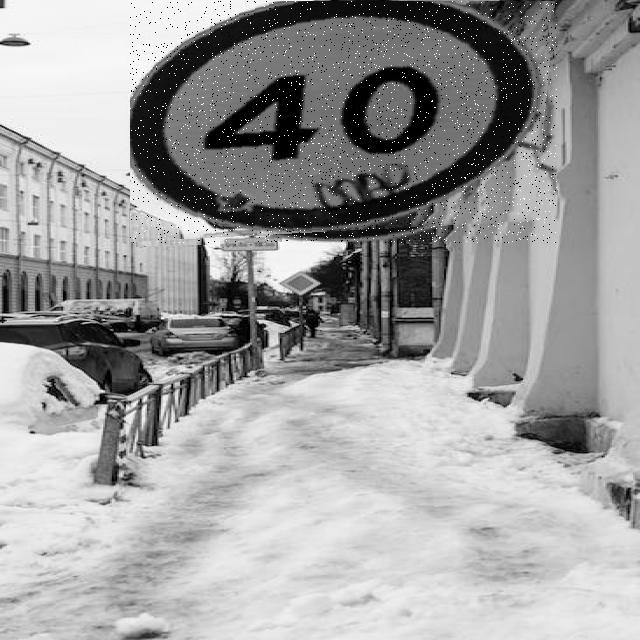speed limit 40: (130, 1, 557, 243)
